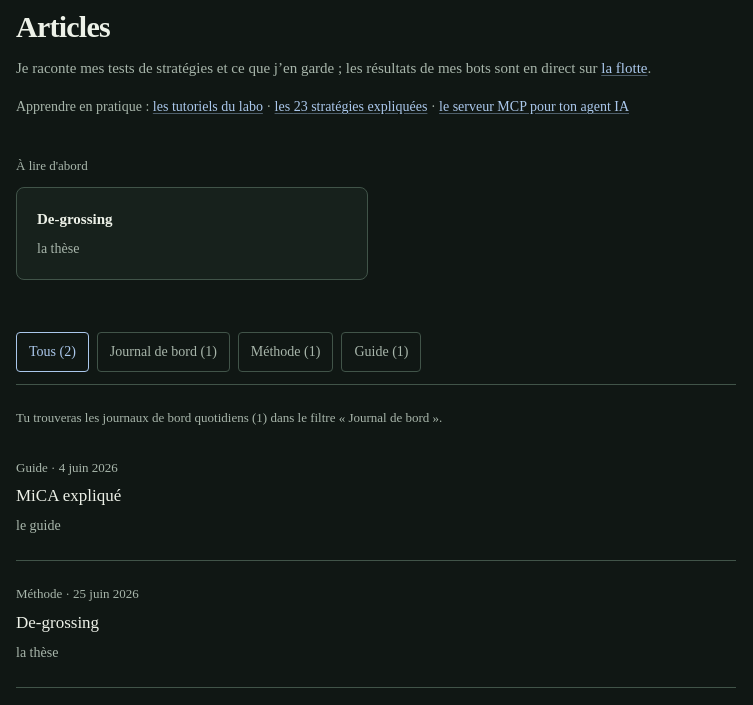
BlogListClient — daily journals hidden by default (D026) › still shows journals when the Journal pill is selected
What coordinates should you click on to do the following:
click the button "Journal de bord (1)"
I would click on:
 (163, 352)
Its box is [97, 332, 230, 372].
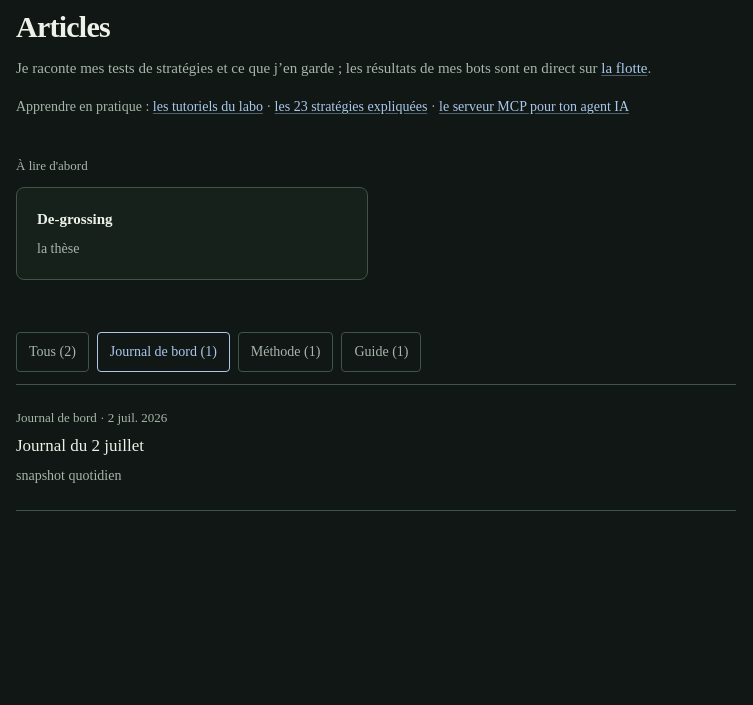
Check: the link "Journal du 2 juillet" is shown, box [16, 436, 144, 455]
